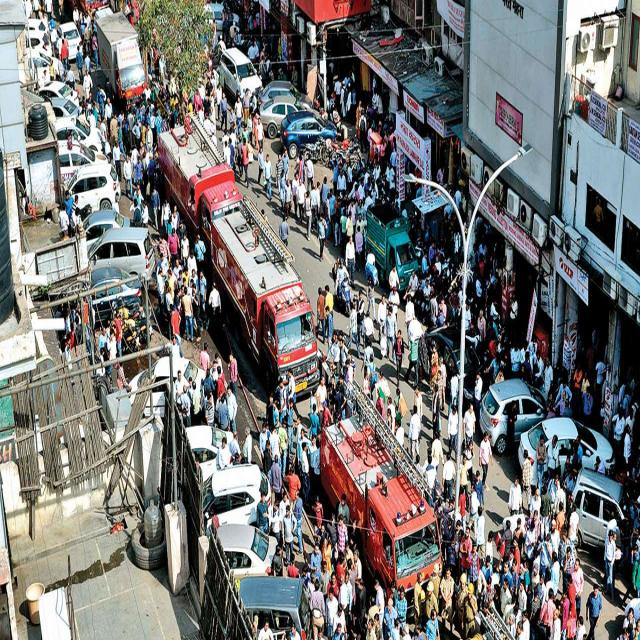car: (518, 418, 615, 483), (480, 378, 548, 452), (240, 576, 311, 639), (572, 469, 625, 547), (202, 464, 270, 524), (425, 327, 480, 401), (89, 227, 155, 277), (218, 524, 276, 578), (66, 164, 120, 212), (281, 113, 336, 158), (186, 427, 232, 480), (218, 49, 261, 98), (59, 140, 106, 183), (82, 209, 130, 248), (55, 116, 104, 153), (260, 96, 299, 139), (259, 80, 312, 110), (39, 80, 79, 107), (59, 22, 81, 62), (51, 98, 81, 118)
emergency: (320, 384, 442, 588), (211, 196, 320, 396), (158, 116, 244, 249), (269, 233, 290, 282)
truck: (366, 202, 419, 293), (96, 11, 146, 99)
